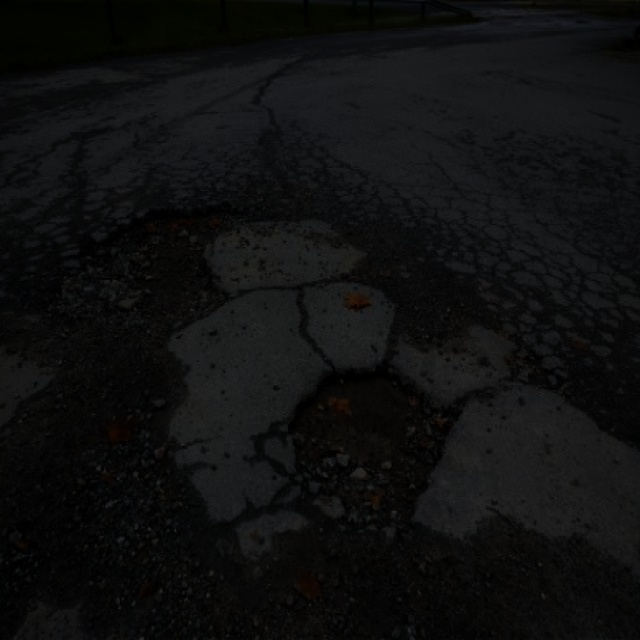Pothole: (282, 361, 457, 524), (89, 194, 238, 328)
